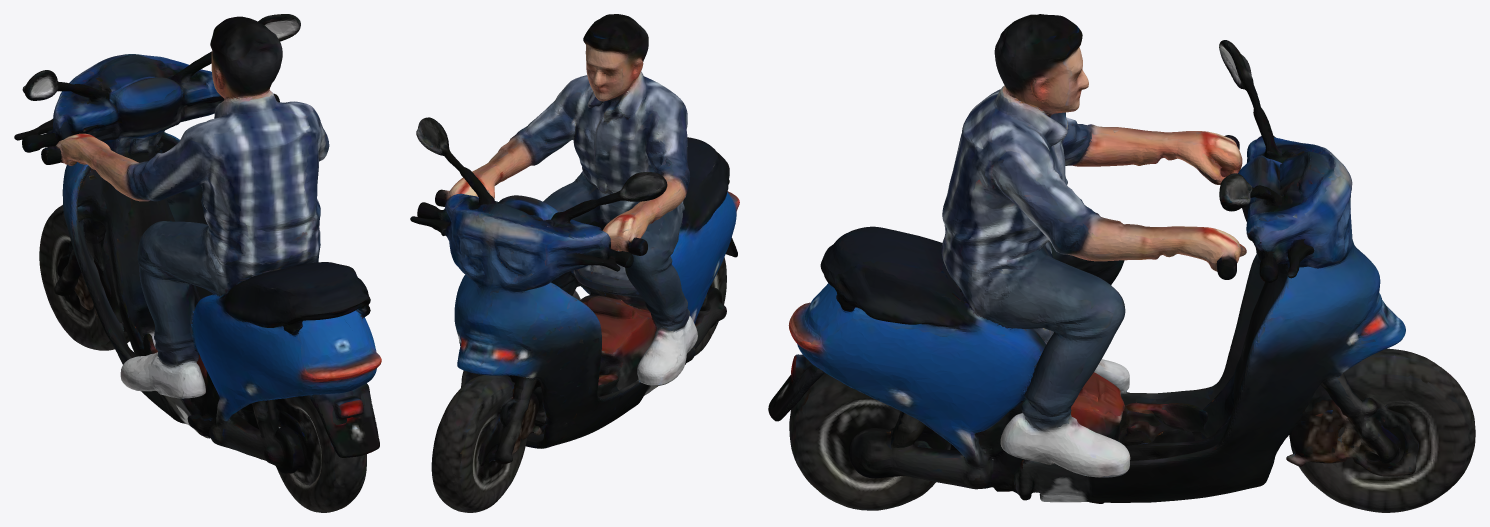
The model's file is ola.glb.
The picture shows the model from 3 angles, left to right: view 1: azimuth 30°, elevation 25°; view 2: azimuth 150°, elevation 25°; view 3: azimuth 270°, elevation 25°; orthographic projection. The views are drawn at different scales.
Visible parts, largest first — view 1: ola; view 2: ola; view 3: ola.
Part boxes in pixels (left/top/right/bottom): ola: left=14, top=14, right=381, bottom=512; ola: left=410, top=14, right=739, bottom=512; ola: left=768, top=14, right=1475, bottom=512.
Size of the model in its own units: 0.5114 by 0.767 by 1.
1 material, 1 textured.
